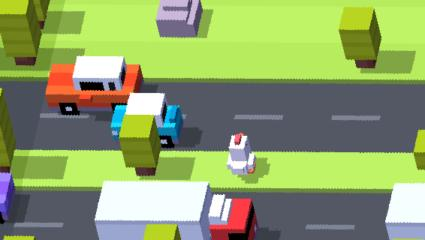hen: (226, 135, 257, 174)
obstacle: (99, 180, 209, 240), (47, 54, 142, 111), (112, 92, 182, 147), (341, 6, 383, 68), (0, 0, 40, 64), (121, 114, 161, 173), (211, 192, 258, 240), (387, 183, 425, 240), (158, 0, 205, 38), (0, 90, 18, 170), (0, 172, 17, 224), (143, 225, 181, 240), (415, 129, 425, 170), (32, 0, 49, 24), (3, 236, 40, 240)
